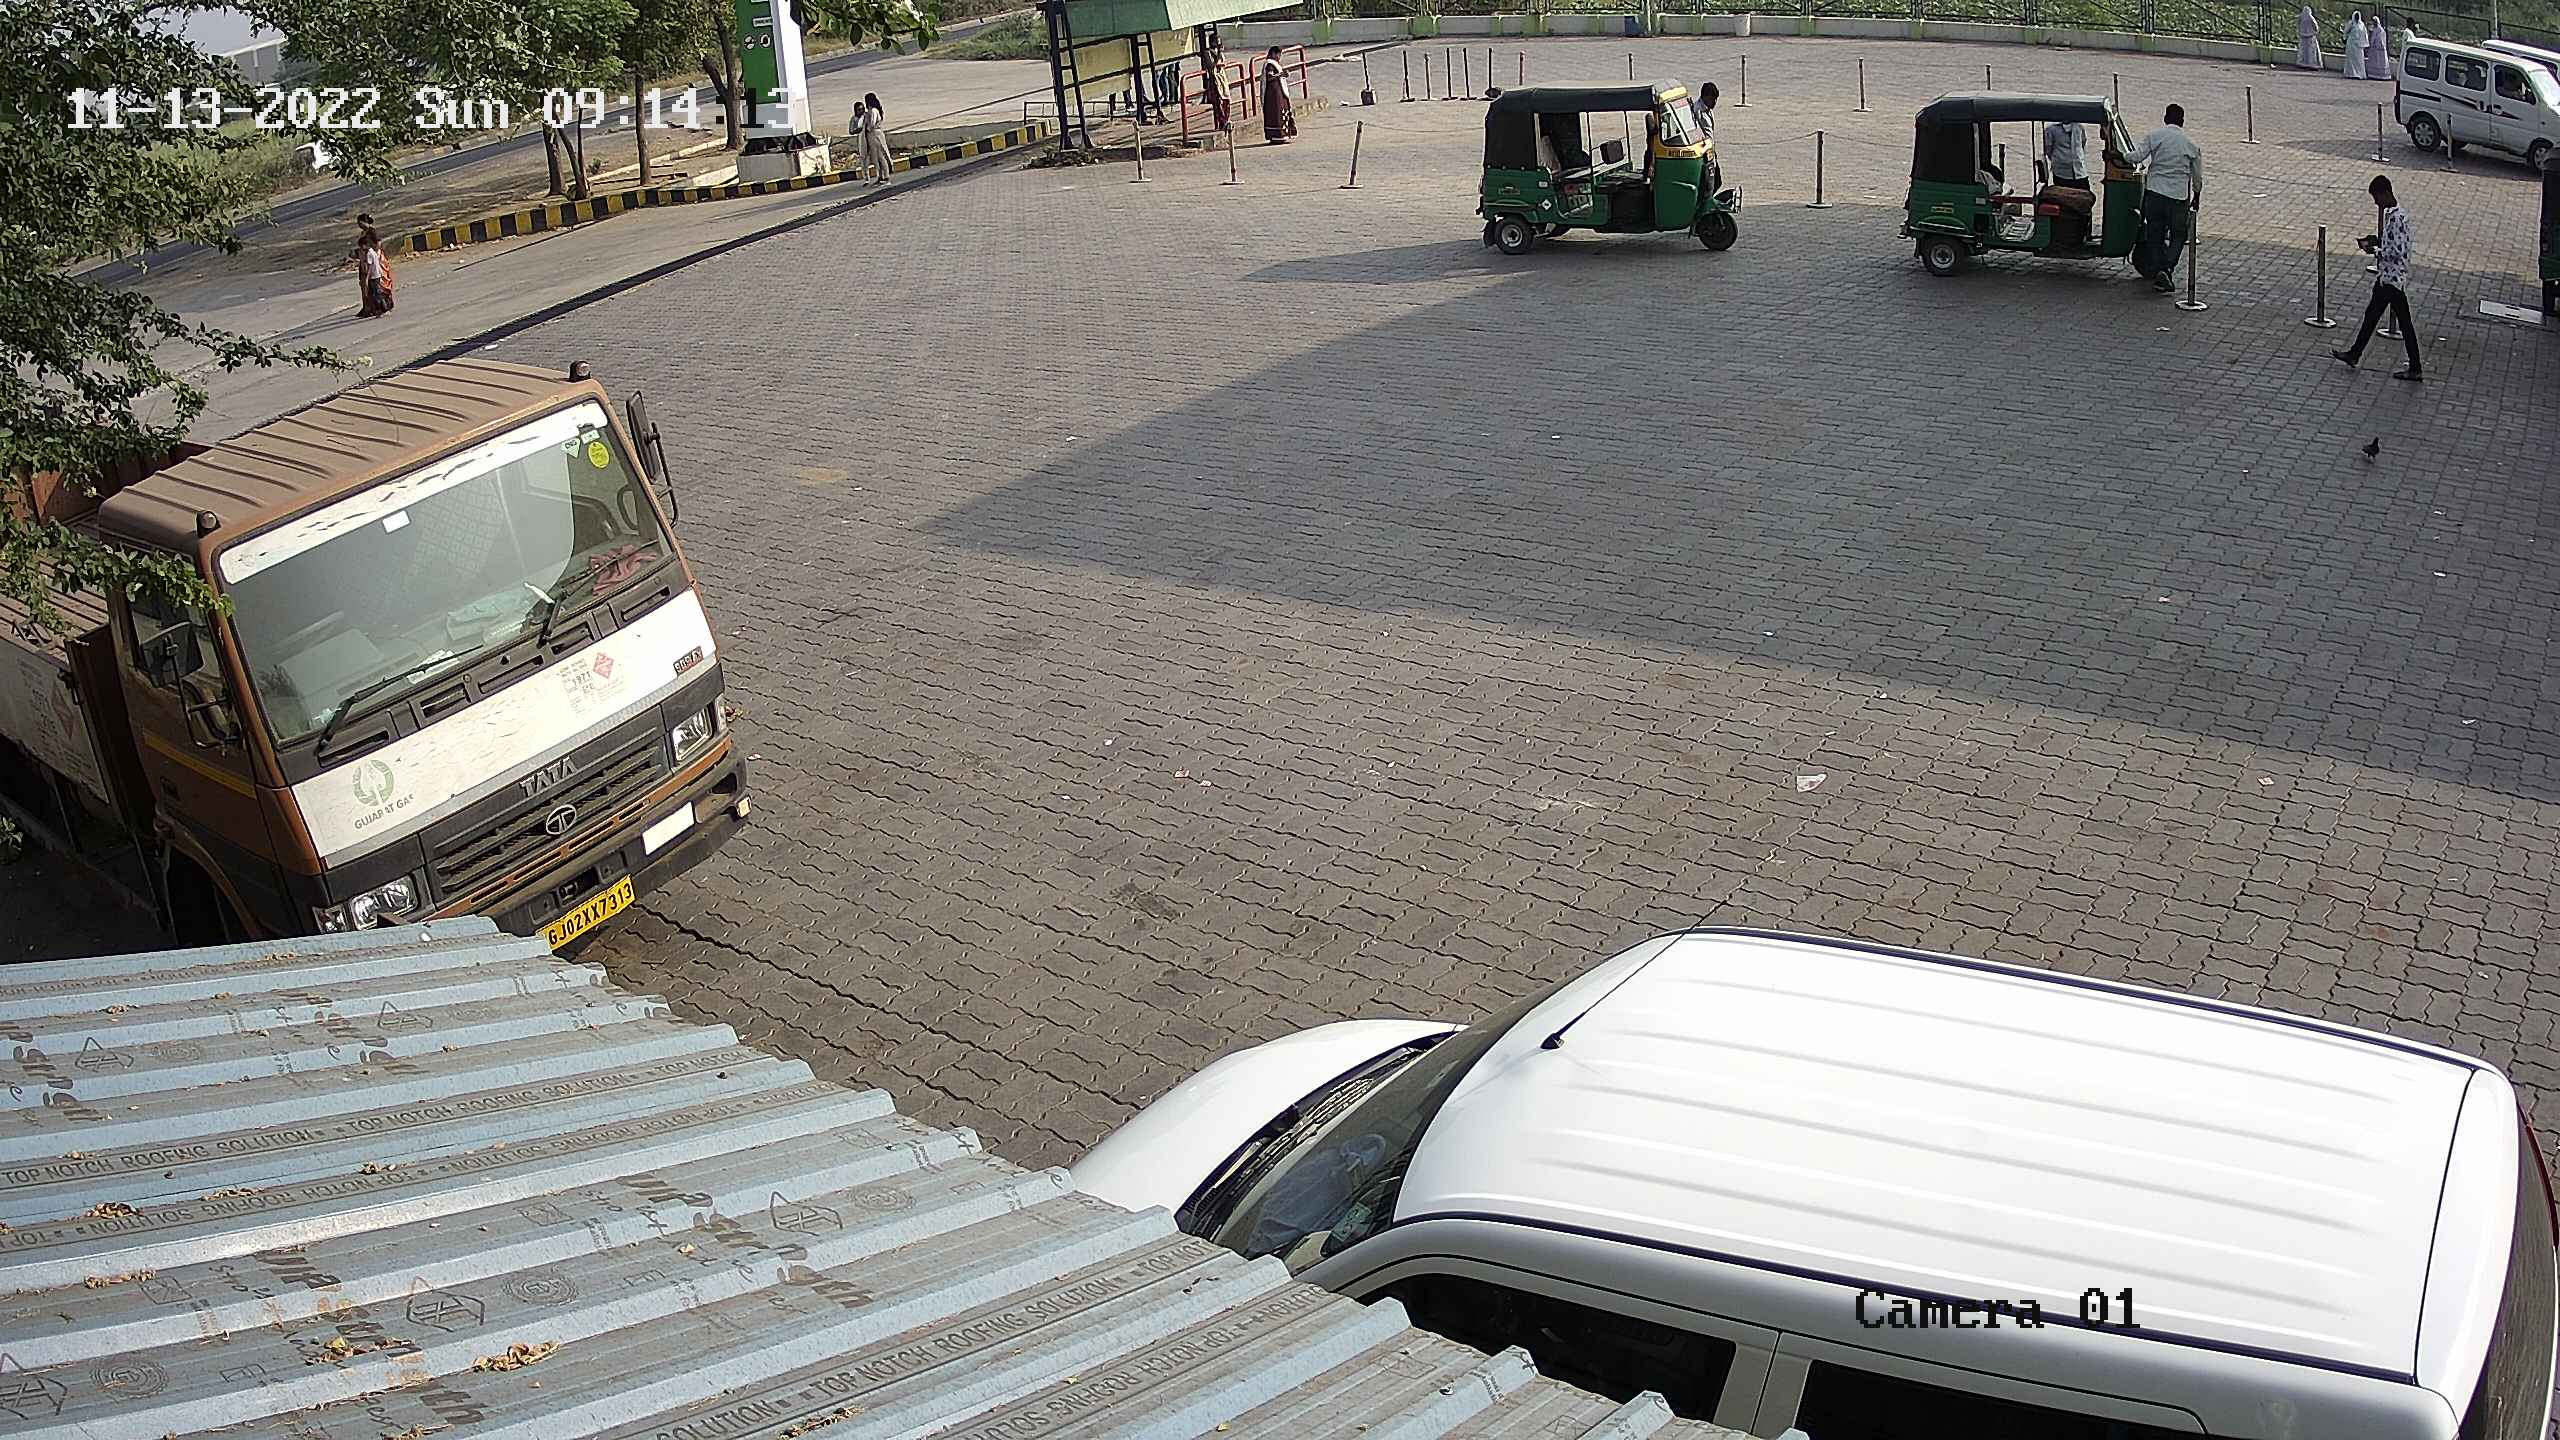Auto: (1885, 79, 2173, 292), (1466, 72, 1748, 273)
Car: (1053, 898, 2558, 1436), (2384, 19, 2556, 183), (2476, 30, 2558, 111)
HMV: (0, 343, 763, 976)
